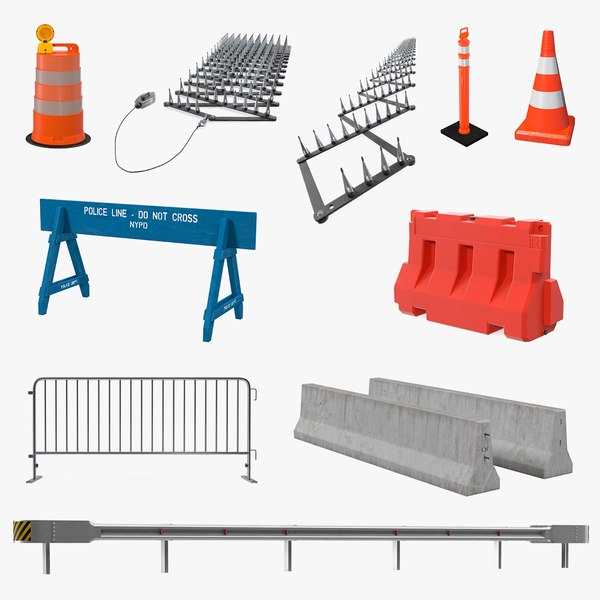Barrier: (279, 369, 586, 497), (19, 194, 276, 345), (16, 364, 262, 489), (389, 196, 576, 357)
Road_cone: (514, 28, 583, 144)
